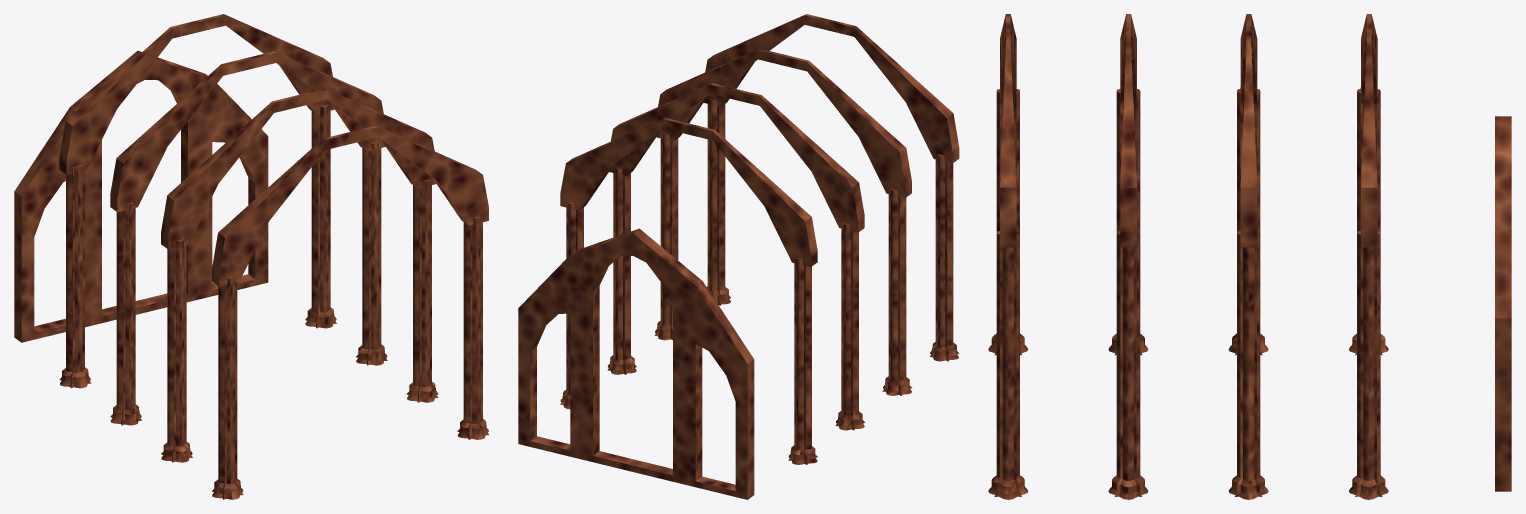
File: church ruins.fbx
3 renders of one model, left to right at view 1: azimuth 30°, elevation 25°; view 2: azimuth 150°, elevation 25°; view 3: azimuth 270°, elevation 25°, orthographic. The views are drawn at different scales.
Visible parts, largest first — view 1: Column, Łuki, Back wall; view 2: Column, Łuki, Back wall; view 3: Column, Łuki, Back wall.
Part boxes in pixels (<box>): Column: <box>59,104,488,499</box>; Łuki: <box>59,14,488,286</box>; Back wall: <box>14,50,268,342</box>; Column: <box>560,98,958,464</box>; Łuki: <box>560,14,959,266</box>; Back wall: <box>518,228,754,499</box>; Column: <box>988,87,1388,499</box>; Łuki: <box>1000,14,1377,247</box>; Back wall: <box>1495,116,1511,491</box>.
Size of the model in its own units: 4492 by 5141 by 6239.
